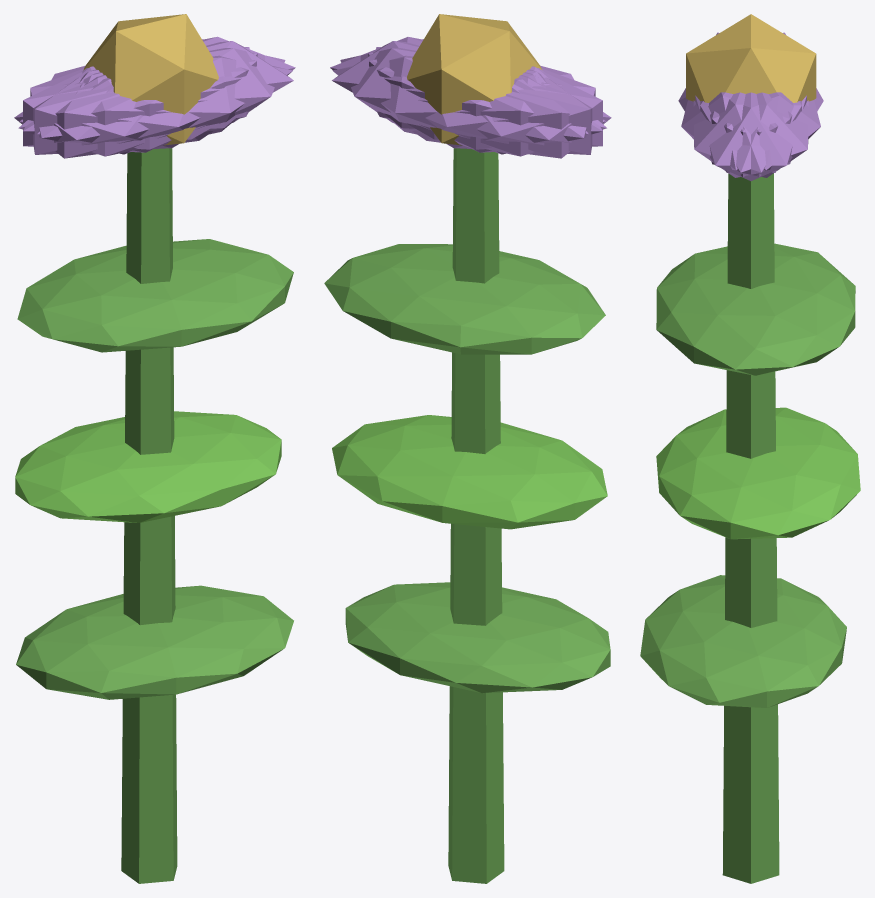
Rendered from persicaria-chinensis.glb.
The picture shows the model from 3 angles, left to right: view 1: azimuth 30°, elevation 25°; view 2: azimuth 150°, elevation 25°; view 3: azimuth 270°, elevation 25°; orthographic projection.
Parts seen in each view (by area): view 1: stem, leaf0, leaf2, leaf1, center, petal1, petal6, petal2, petal5, petal7, petal0, petal4 (+2 smaller); view 2: stem, leaf1, leaf2, leaf0, center, petal8, petal3, petal7, petal4, petal2, petal0, petal5 (+2 smaller); view 3: stem, leaf2, leaf1, leaf0, center, petal0, petal4, petal5, petal8, petal1.
Boxes of the visible parts, <box> form: stem: <box>121,148,177,883</box>; leaf0: <box>16,585,293,699</box>; leaf2: <box>17,239,293,352</box>; leaf1: <box>15,411,281,522</box>; center: <box>83,14,218,145</box>; petal1: <box>18,55,292,156</box>; petal6: <box>14,68,212,158</box>; petal2: <box>33,47,249,154</box>; petal5: <box>37,48,285,149</box>; petal7: <box>23,52,257,152</box>; petal0: <box>83,41,293,139</box>; petal4: <box>20,36,295,131</box>; stem: <box>448,148,504,883</box>; leaf1: <box>332,415,607,529</box>; leaf2: <box>324,244,605,354</box>; leaf0: <box>345,582,610,693</box>; center: <box>407,14,541,145</box>; petal8: <box>332,55,606,156</box>; petal3: <box>412,68,611,158</box>; petal7: <box>376,47,592,154</box>; petal4: <box>340,48,588,149</box>; petal2: <box>368,52,602,152</box>; petal0: <box>332,41,542,139</box>; petal5: <box>330,37,605,131</box>; stem: <box>722,173,779,883</box>; leaf2: <box>656,243,855,375</box>; leaf1: <box>656,407,860,539</box>; leaf0: <box>640,575,846,707</box>; center: <box>686,14,816,102</box>; petal0: <box>695,92,806,180</box>; petal4: <box>700,92,808,177</box>; petal5: <box>693,92,801,177</box>; petal8: <box>710,92,820,170</box>; petal1: <box>681,92,792,170</box>.
Size of the model in its own units: 0.1452 by 0.4362 by 0.1037.
